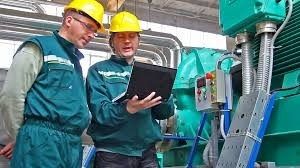helmet: (61, 1, 109, 32), (108, 12, 144, 36)
person with partial safety: (15, 1, 106, 167), (104, 6, 162, 163)
